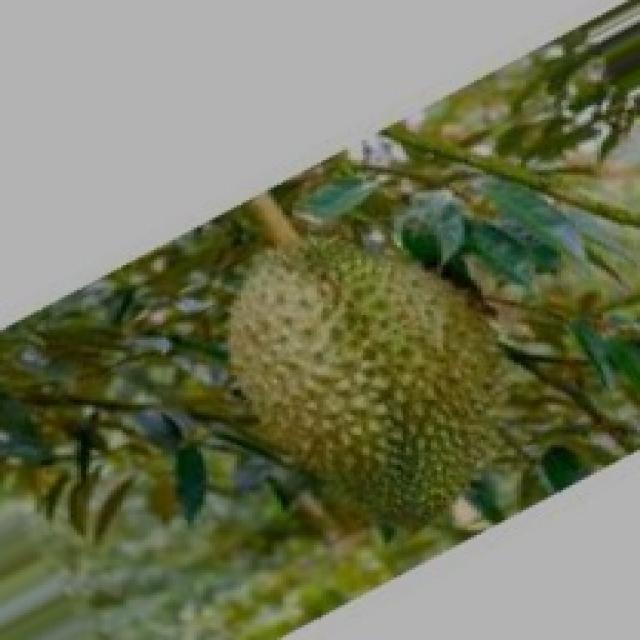fruit: (178, 192, 570, 590)
